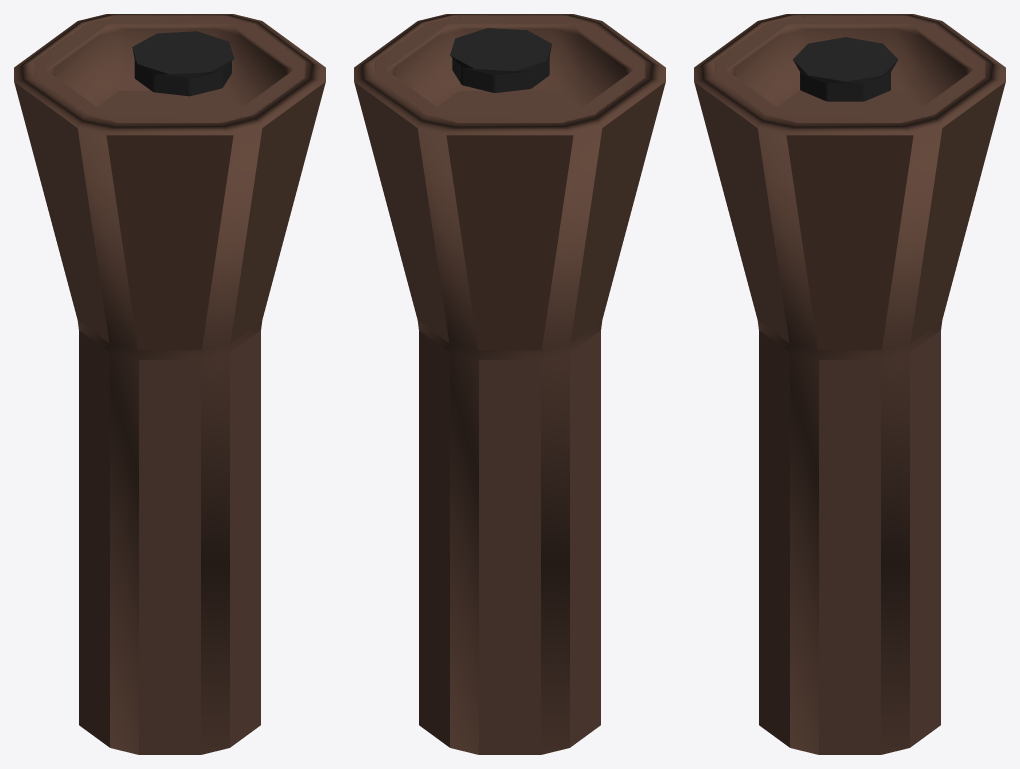
Rendered from TORCHfix.fbx.
3 renders of one model, left to right at view 1: azimuth 30°, elevation 25°; view 2: azimuth 150°, elevation 25°; view 3: azimuth 270°, elevation 25°, orthographic.
Visible parts, largest first — view 1: Torch.002; view 2: Torch.002; view 3: Torch.002.
Part boxes in pixels (left/top/right/bottom): Torch.002: left=14, top=14, right=325, bottom=754; Torch.002: left=354, top=14, right=665, bottom=754; Torch.002: left=694, top=14, right=1005, bottom=754.
Bounding box in the file's own units: 147 × 378 × 160.
